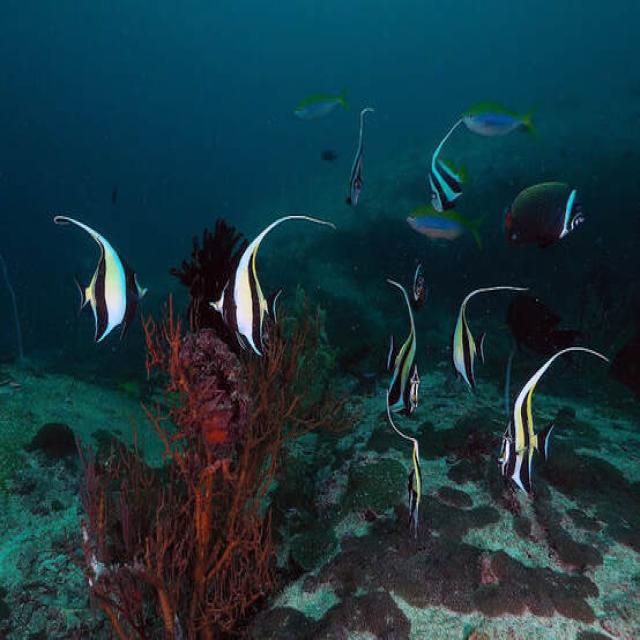MorishIdol: (205, 212, 338, 360), (496, 342, 611, 502), (51, 211, 149, 347), (440, 284, 529, 394), (384, 280, 420, 420)
